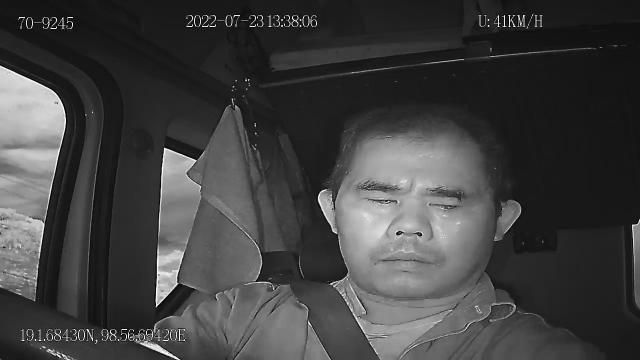SafeDriving: (418, 187, 470, 218), (356, 186, 406, 211)
Seatbelt: (288, 280, 382, 360)
